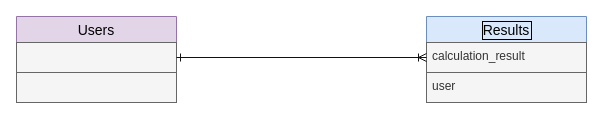
The diagram is 603 pixels wide and 119 high, and some of its shapes have lost their labels. The centre of each missing label's shape, as x and y in pixels:
birthday: the point at 96,87
name: the point at 96,57
